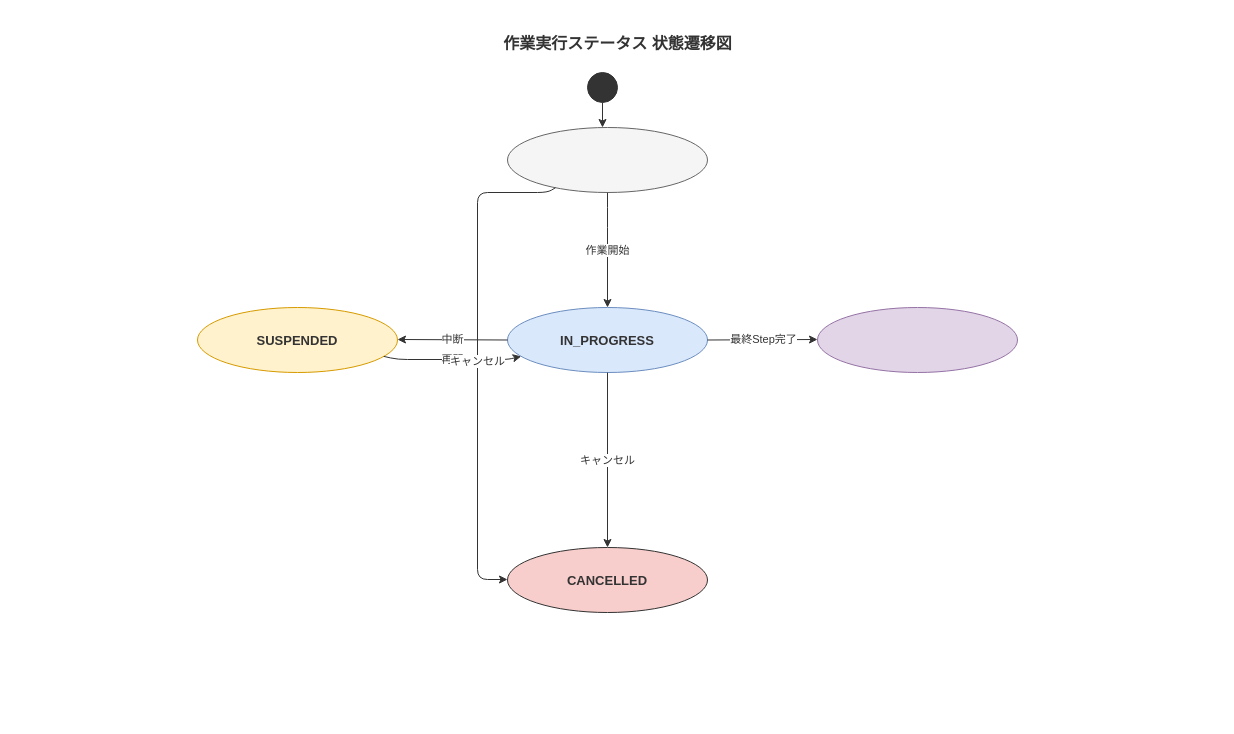
This 1234x734 diagram has some shape labels left out. Here are the shapes that lost their labels. From the top down, the centre of each, then its label:
point 607,159: NOT_STARTED
point 917,339: COMPLETED
